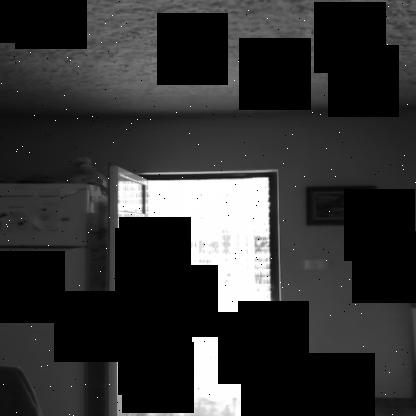Porte: (98, 158, 282, 415)
